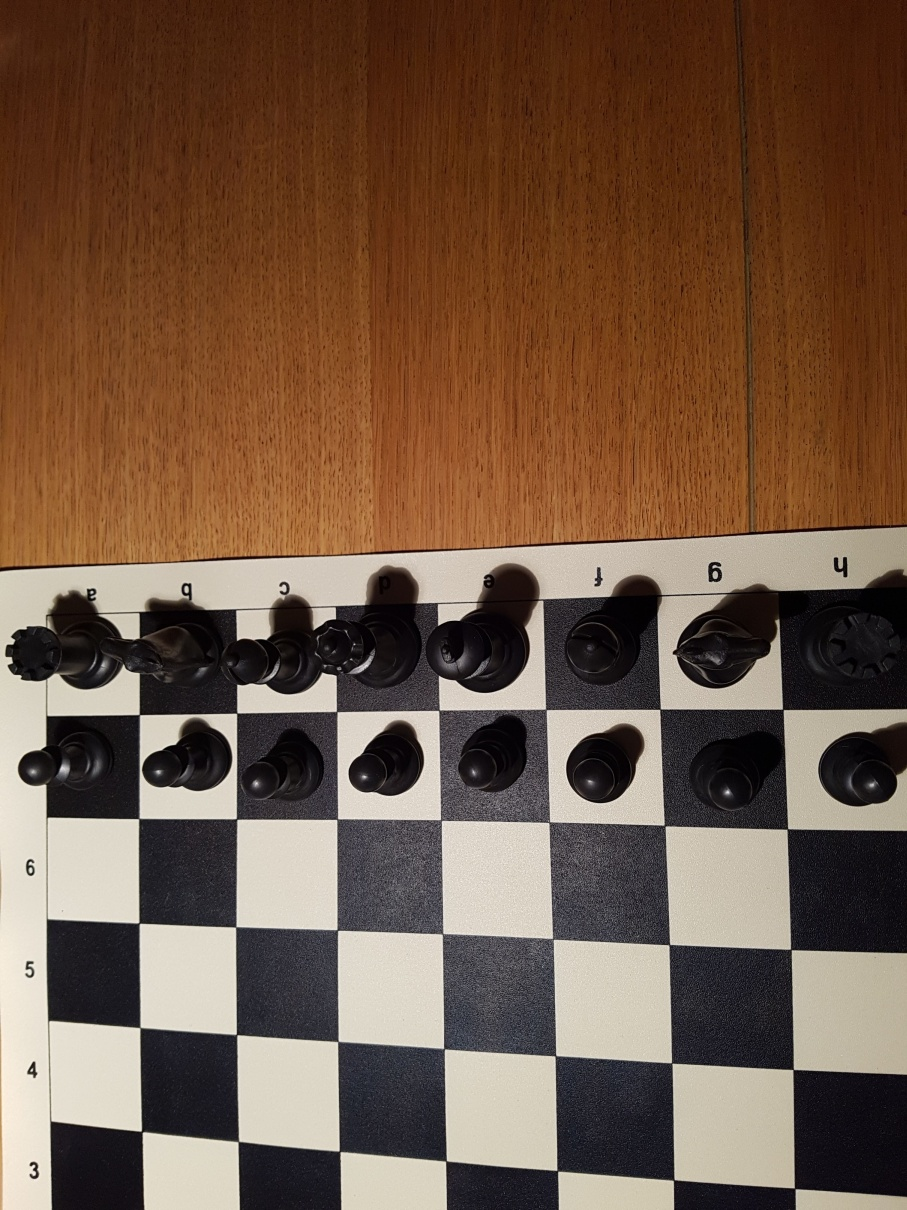chess_bishop: (566, 614, 641, 684), (223, 636, 317, 690)
chess_king: (431, 613, 533, 693)
chess_knight: (679, 610, 779, 692), (121, 629, 222, 687)
chess_pawn: (817, 731, 898, 808), (13, 730, 110, 792), (456, 727, 531, 795), (141, 734, 235, 788), (691, 741, 760, 814), (568, 735, 639, 801), (241, 746, 326, 799), (348, 735, 423, 794)
chess_queen: (313, 619, 416, 688)
chess_rook: (807, 613, 907, 687), (7, 625, 117, 683)
